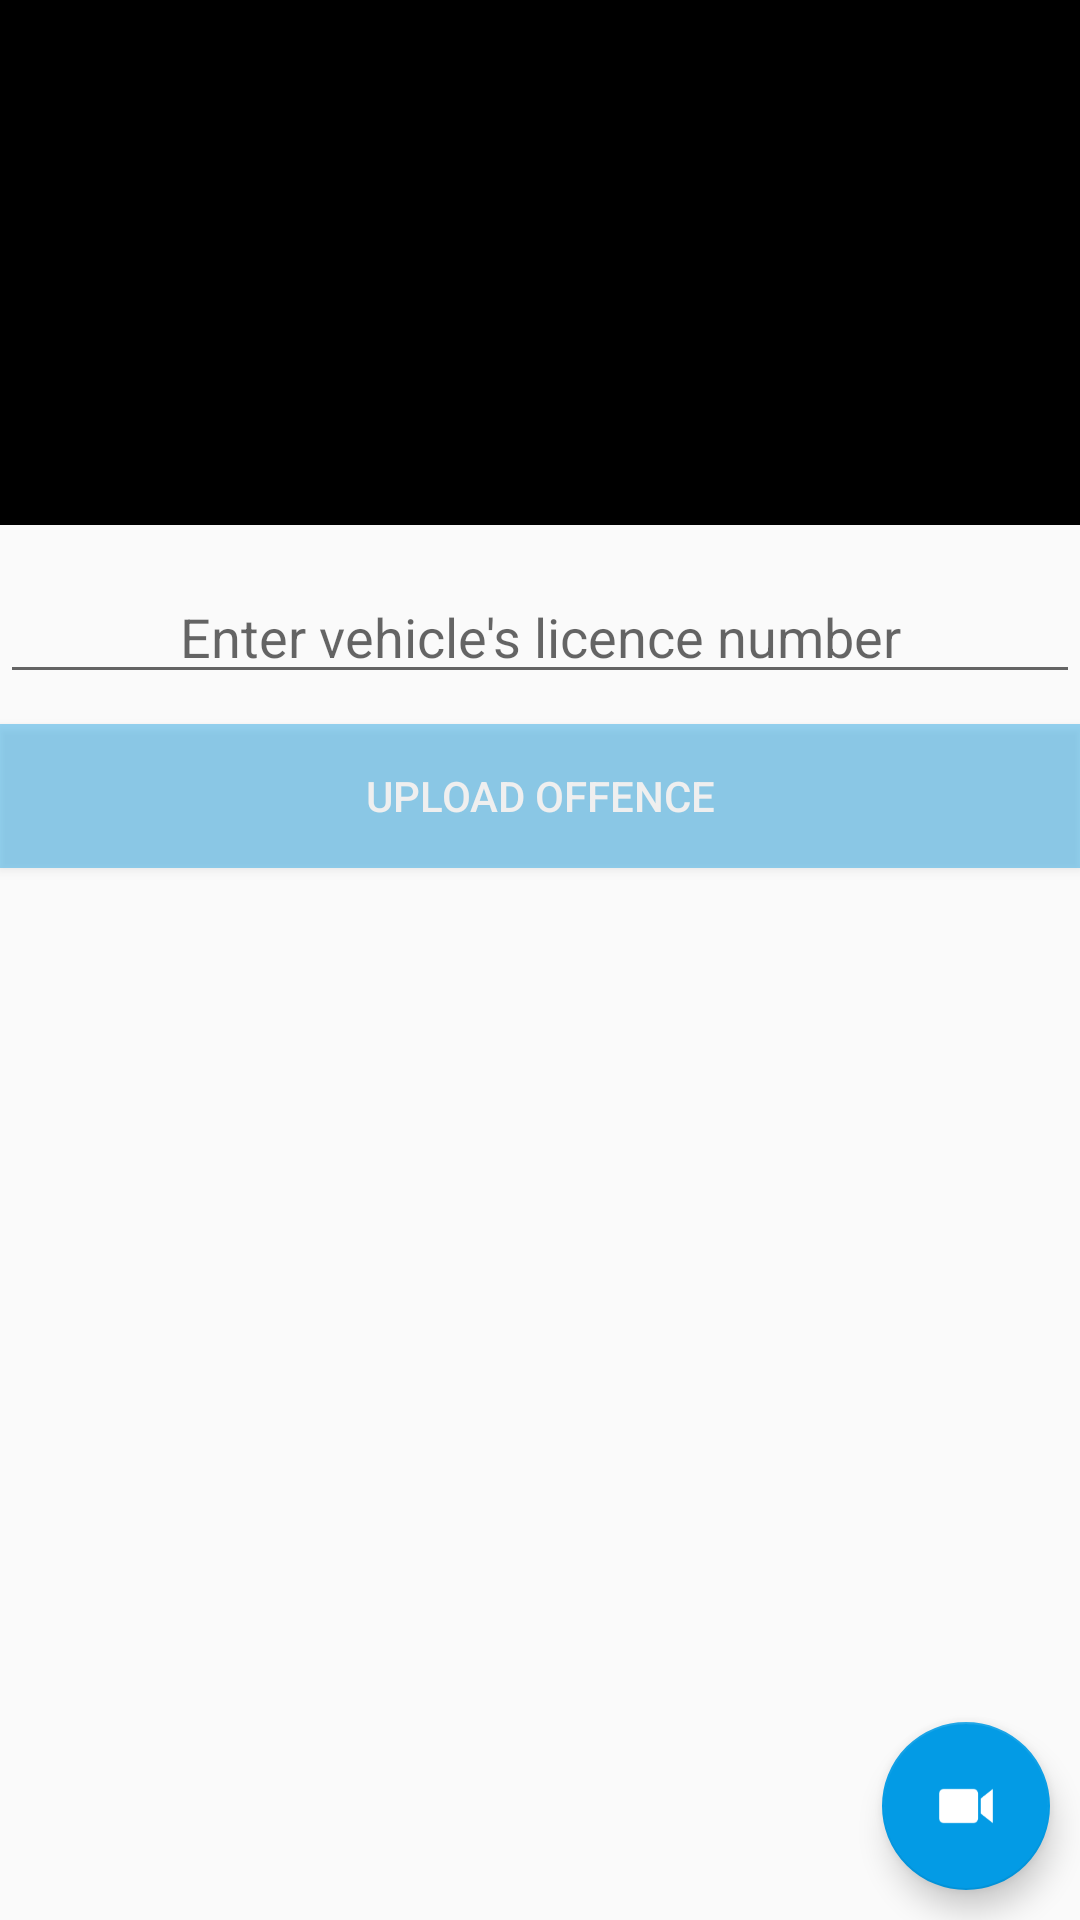

Point at icon controls on the screen. Image size 1080px x 1920px, points as (x=x, y=y).
video: (x=966, y=1806)
